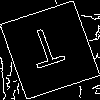T: (24, 25, 70, 78)
